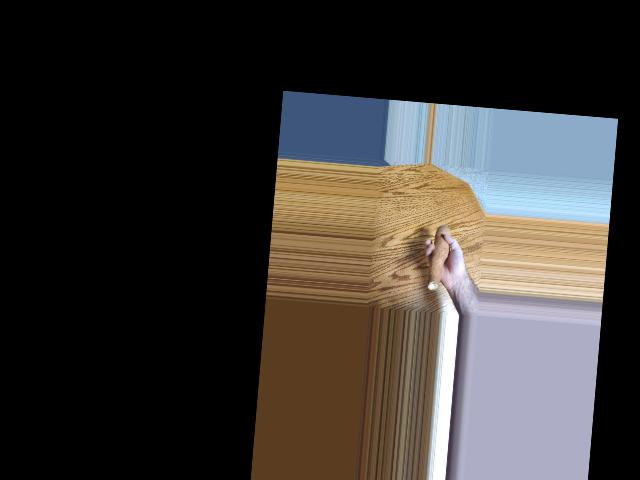sweet_potato: (426, 228, 452, 286)
